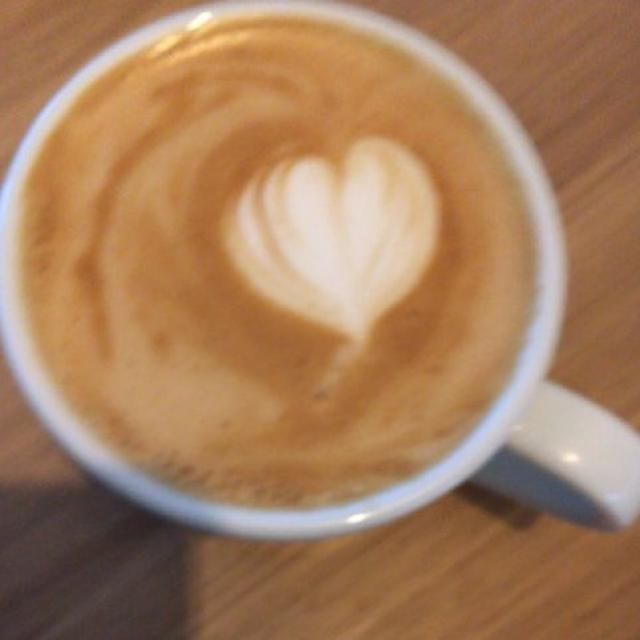cappuccino: (27, 55, 525, 504)
